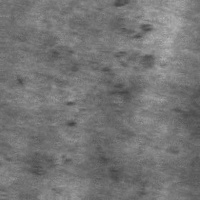rolled-in_scale: (78, 21, 157, 139), (23, 144, 127, 185)
